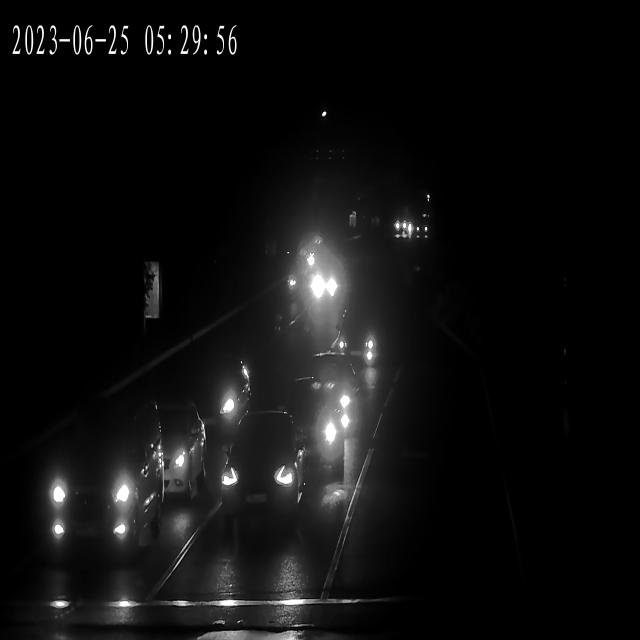Car: (46, 406, 158, 560), (221, 408, 305, 542), (282, 375, 361, 485), (142, 405, 217, 505), (198, 360, 252, 429), (336, 308, 382, 363), (310, 264, 341, 304), (282, 265, 313, 291), (301, 239, 325, 269), (395, 211, 409, 236), (413, 220, 430, 240)
